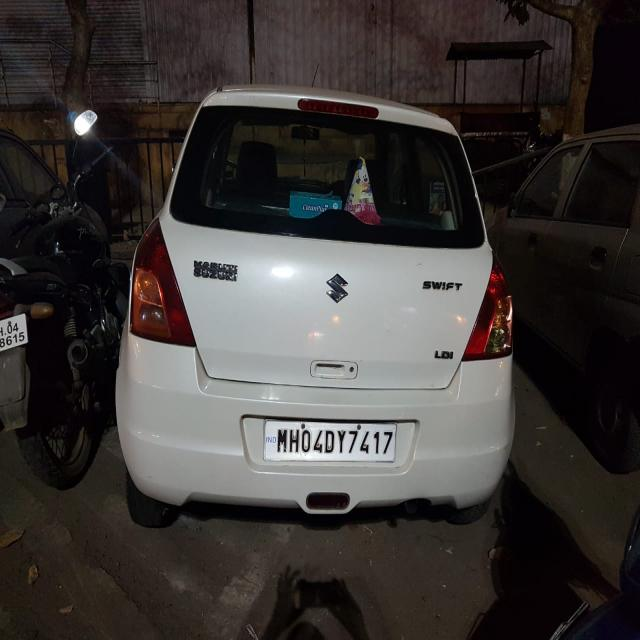Number-Plate: (265, 421, 398, 462), (0, 317, 28, 348)
